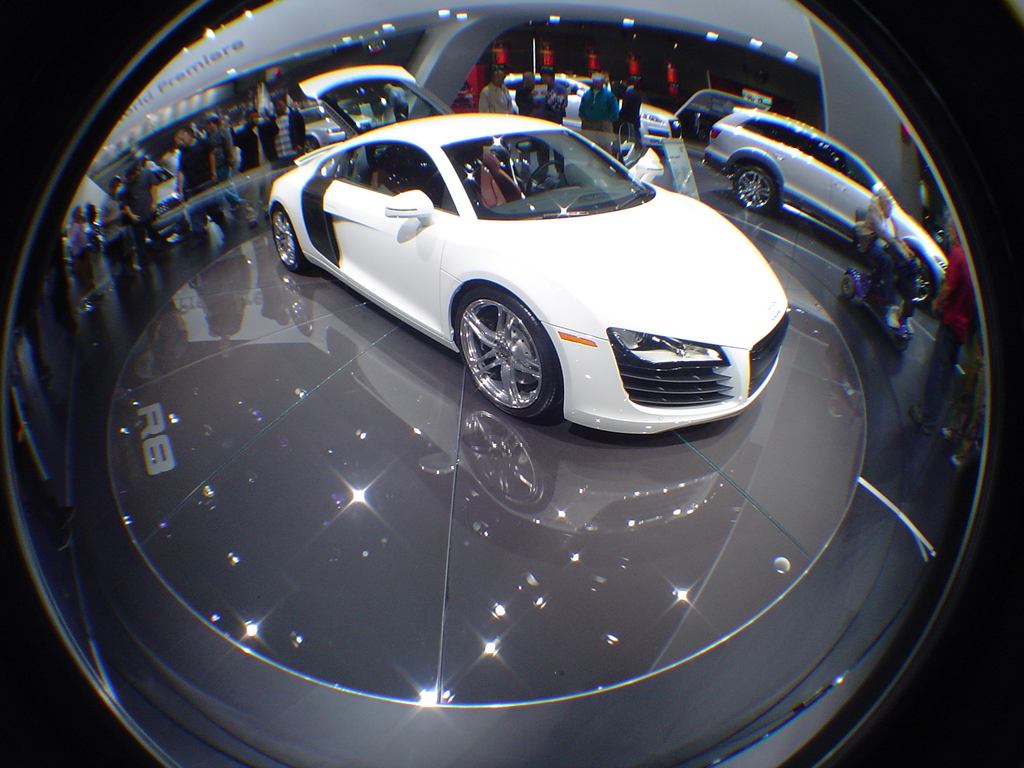Car: (269, 64, 794, 433), (704, 109, 950, 306), (498, 72, 678, 136), (672, 87, 748, 142)
